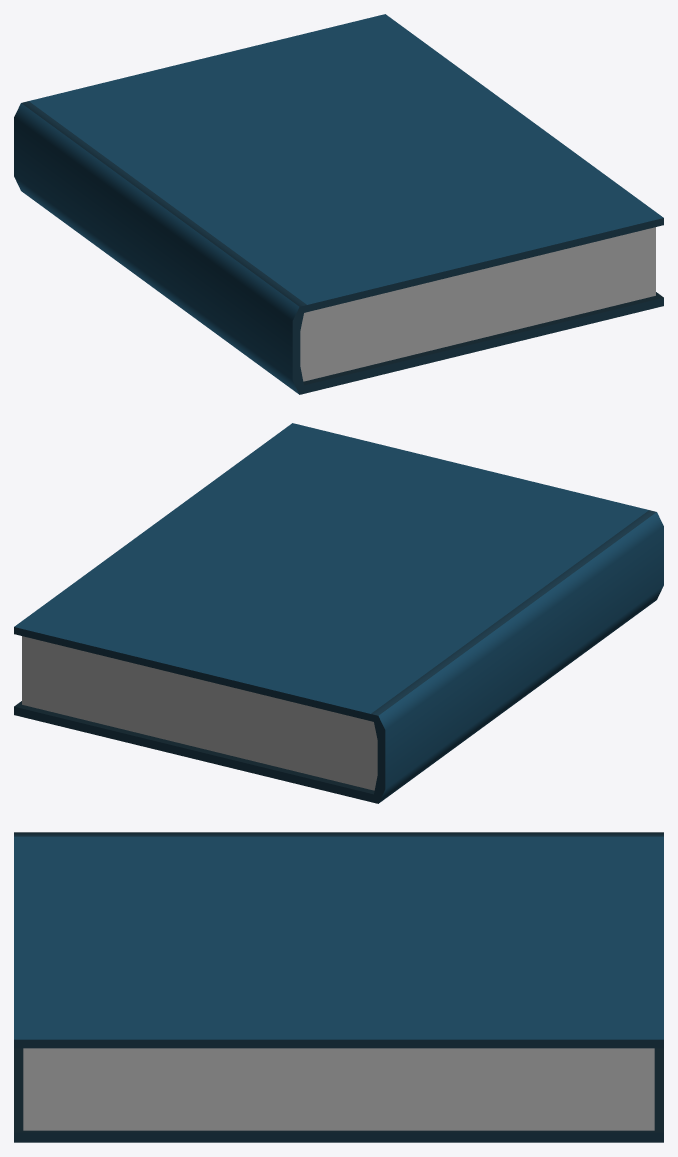
The model's file is human-household-items-book_v1.glb.
The picture shows the model from 3 angles, top to bottom: view 1: azimuth 30°, elevation 25°; view 2: azimuth 150°, elevation 25°; view 3: azimuth 270°, elevation 25°; orthographic projection. The views are drawn at different scales.
Parts seen in each view (by area): view 1: Book_v1; view 2: Book_v1; view 3: Book_v1.
Part boxes in pixels (box(x1,y1,x2,y2)): Book_v1: box(14, 14, 663, 394); Book_v1: box(14, 423, 663, 803); Book_v1: box(14, 832, 663, 1142).
Size of the model in its own units: 0.1925 by 0.0436 by 0.25.
